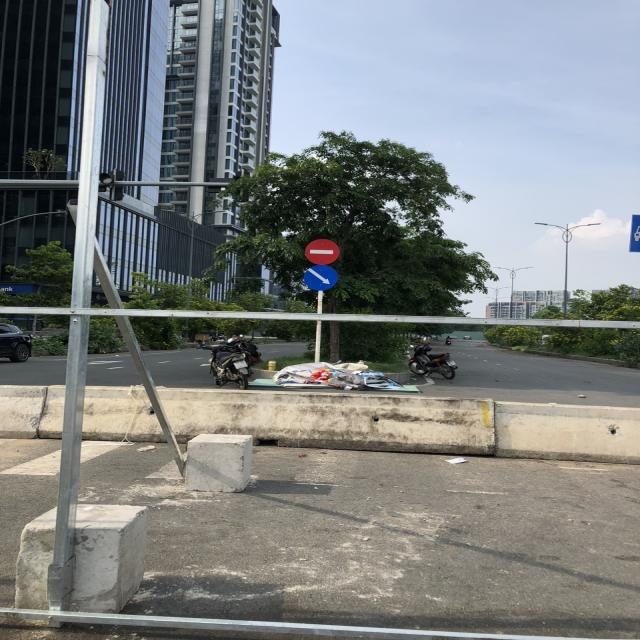Bien bao cam di nguoc chieu: (300, 236, 345, 266)
